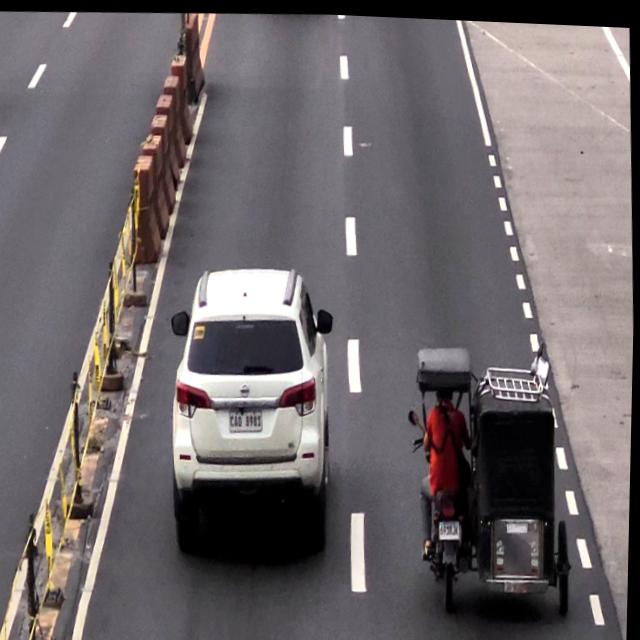Car: (168, 257, 333, 550)
License-Plate: (228, 402, 266, 435), (438, 511, 463, 535)
Tricycle: (413, 340, 576, 613)
